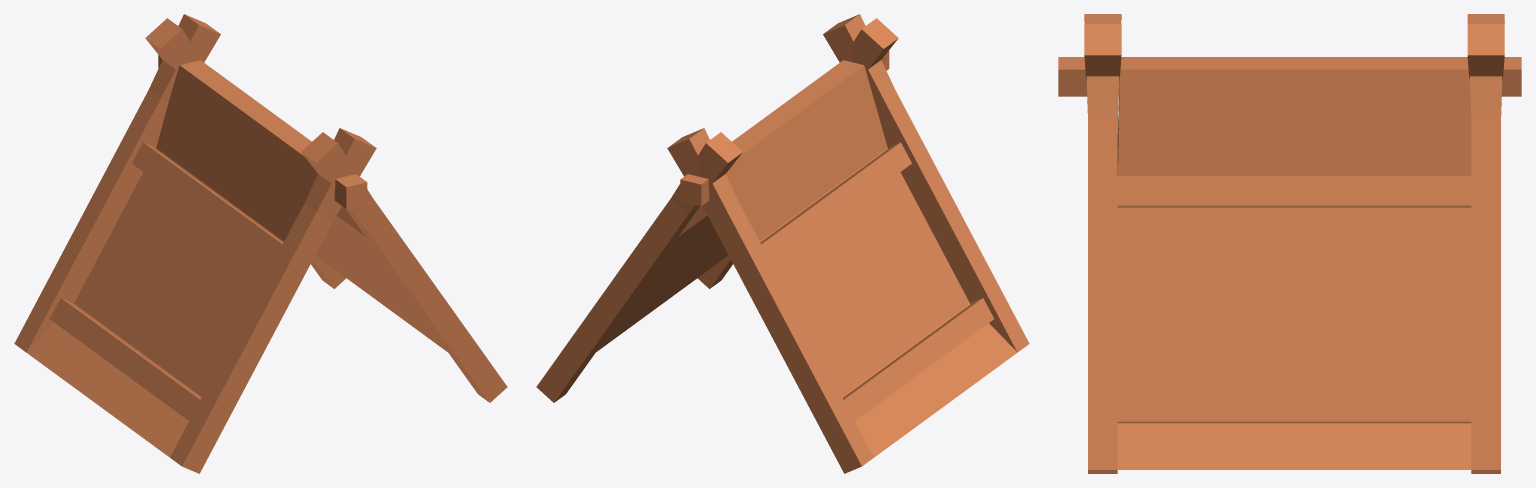
The model's file is tent-canvas.obj.
3 renders of one model, left to right at view 1: azimuth 30°, elevation 25°; view 2: azimuth 150°, elevation 25°; view 3: azimuth 270°, elevation 25°, orthographic. The views are drawn at different scales.
Bounding box in the file's own units: 0.5608 × 0.4914 × 0.561.
